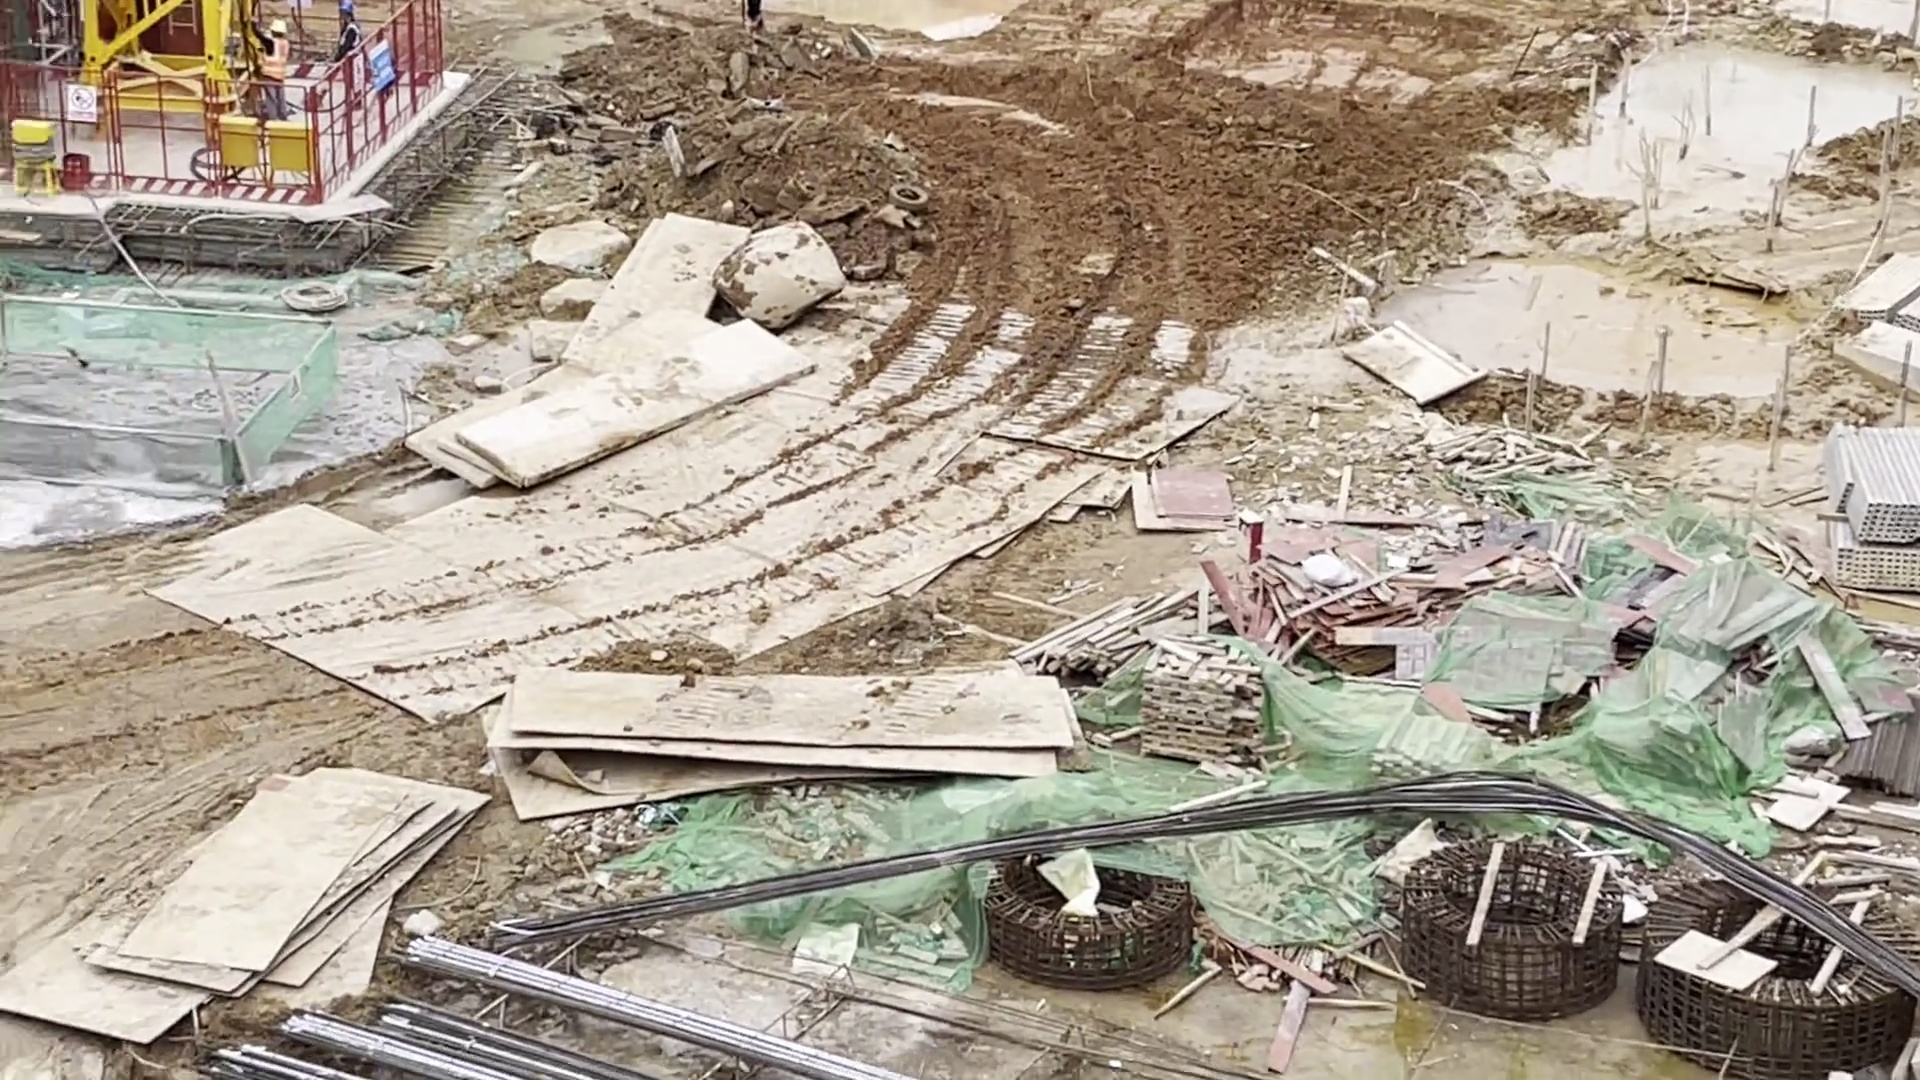ebox: (1, 112, 63, 194), (264, 113, 315, 204), (221, 116, 258, 178)
helmet: (271, 18, 288, 35), (339, 3, 354, 12)
person: (238, 6, 301, 126), (322, 1, 375, 113)
vest: (256, 36, 292, 77), (336, 20, 360, 60)
